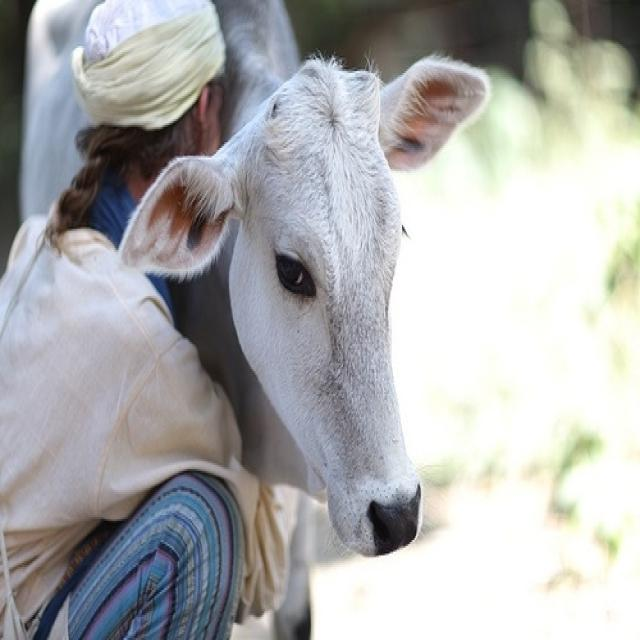cow: (0, 3, 498, 595)
